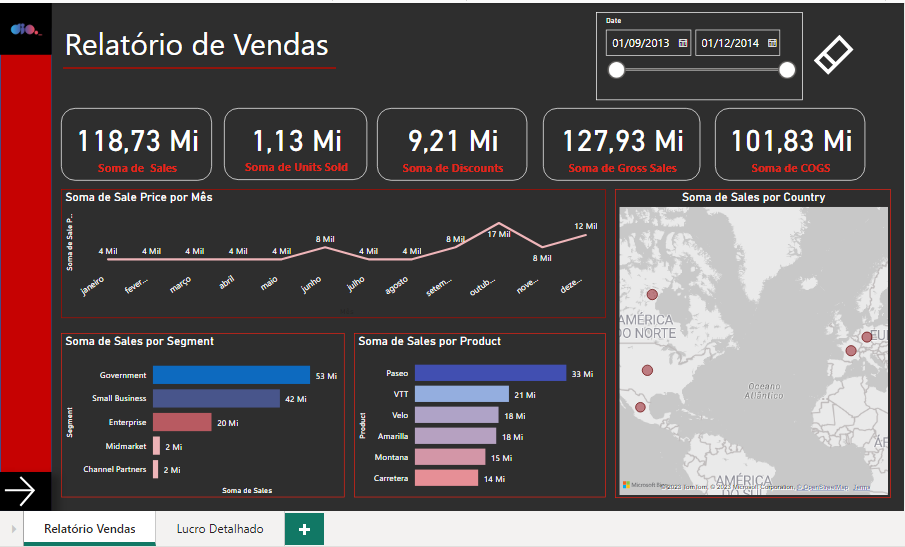

The page's visual inventory and layout, read from the dashboard file:
{"tool":"powerbi","page":{"name":"Relatório Vendas","canvas":[1280,720],"ordinal":0},"visuals":[{"type":"shape","box":[0,23,73.4,697],"z":0},{"type":"card","fields":{"Values":["Sum(Sheet1. Sales)"]},"box":[86.5,148.8,214,103.5],"z":1000},{"type":"slicer","fields":{"Values":["Sheet1.Date"]},"box":[844.7,12.8,293.4,124.7],"z":2000},{"type":"card","fields":{"Values":["Sum(Sheet1.COGS)"]},"box":[1013.4,148.8,212.6,103.5],"z":3000},{"type":"card","fields":{"Values":["Sum(Sheet1.Discounts)"]},"box":[534.3,148.8,212.6,103.5],"z":4000},{"type":"card","fields":{"Values":["Sum(Sheet1.Gross Sales)"]},"box":[769.6,148.8,222.5,103.5],"z":5000},{"type":"card","fields":{"Values":["Sum(Sheet1.Units Sold)"]},"box":[317.5,148.8,202.7,102],"z":6000},{"type":"lineChart","fields":{"Category":["Sheet1.Date.Variation.Hierarquia de datas.Mês"],"Y":["Sum(Sheet1.Sale Price)"]},"box":[86.5,263.6,772.4,182.8],"z":7000},{"type":"clusteredBarChart","fields":{"Y":["Sum(Sheet1. Sales)"],"Category":["Sheet1.Segment"]},"box":[86.4,468,401.8,233.3],"z":8000},{"type":"clusteredBarChart","fields":{"Y":["Sum(Sheet1. Sales)"],"Category":["Sheet1.Product"]},"box":[501.1,468,357.1,233.3],"z":9000},{"type":"map","fields":{"Category":["Sheet1.Country"],"Size":["Sum(Sheet1. Sales)"]},"box":[871.7,263.6,391.2,438],"z":10000},{"type":"actionButton","box":[0,665.3,73.4,54.7],"z":11000},{"type":"actionButton","box":[1138.1,41.1,87.9,65.2],"z":12000},{"type":"textbox","box":[86.5,22.7,433.7,69.4],"z":13000},{"type":"shape","box":[89.3,62.4,386.9,59.5],"z":14000},{"type":"image","box":[0,0,73.4,73.4],"z":15000}]}

Visuals, with their boxes on the page's 1280x720 design canvas (x1, y1, x2, y2). These are canvas units, not pixel positions in the 905x547 screenshot, which may show the page scaled, cropped or inside an application window:
shape: 0:23:73:720
card - Sum(Sheet1. Sales): 86:149:300:252
slicer - Sheet1.Date: 845:13:1138:138
card - Sum(Sheet1.COGS): 1013:149:1226:252
card - Sum(Sheet1.Discounts): 534:149:747:252
card - Sum(Sheet1.Gross Sales): 770:149:992:252
card - Sum(Sheet1.Units Sold): 318:149:520:251
lineChart - Sheet1.Date.Variation.Hierarquia de datas.Mês x Sum(Sheet1.Sale Price): 86:264:859:446
clusteredBarChart - Sum(Sheet1. Sales) x Sheet1.Segment: 86:468:488:701
clusteredBarChart - Sum(Sheet1. Sales) x Sheet1.Product: 501:468:858:701
map - Sheet1.Country x Sum(Sheet1. Sales): 872:264:1263:702
actionButton: 0:665:73:720
actionButton: 1138:41:1226:106
textbox: 86:23:520:92
shape: 89:62:476:122
image: 0:0:73:73
